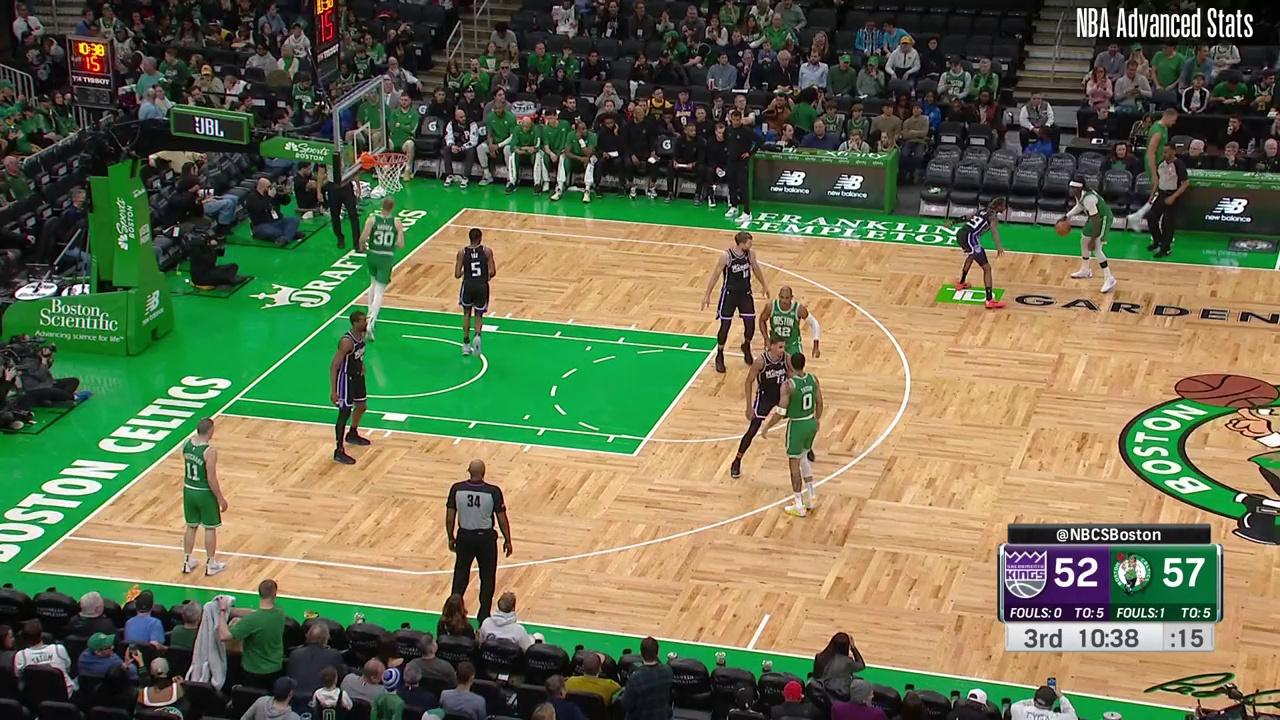3_dx: (440, 219, 454, 231)
3_sx: (58, 530, 73, 543)
b_dx: (459, 202, 473, 216)
b_sx: (14, 563, 30, 578)
free_asx: (627, 448, 640, 461)
free_bdx: (345, 298, 357, 308)
free_bsx: (212, 408, 225, 419)
mid_sx: (763, 610, 773, 619)
referee: (444, 460, 516, 625), (1141, 146, 1190, 256), (321, 164, 367, 252)
team: (182, 418, 226, 574), (782, 354, 823, 521), (1064, 177, 1119, 292), (363, 197, 404, 339), (765, 286, 822, 365)
team1: (736, 337, 797, 477), (713, 230, 760, 365), (330, 313, 372, 463), (451, 226, 498, 359), (955, 197, 1006, 309)
timer: (1077, 624, 1144, 649)
